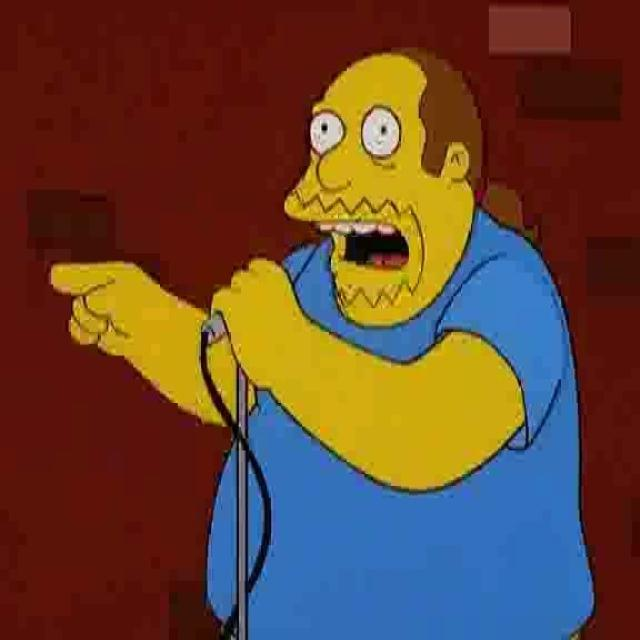Comic Book Guy: (277, 41, 499, 335)
